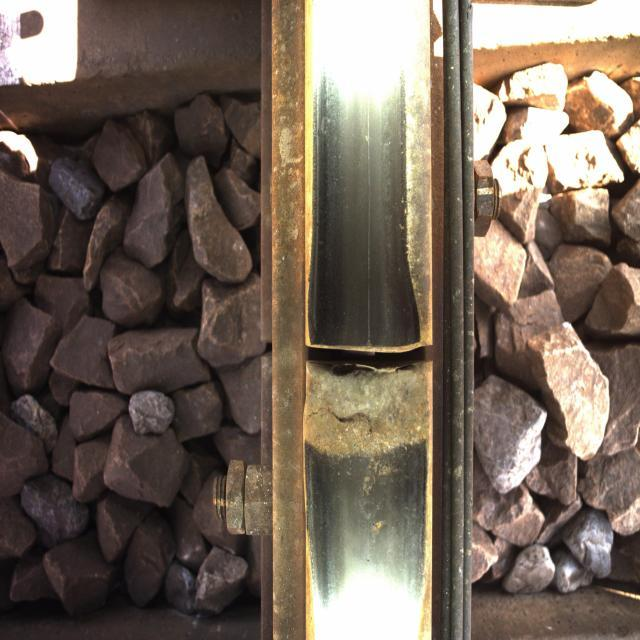spalling: (275, 299, 463, 439)
